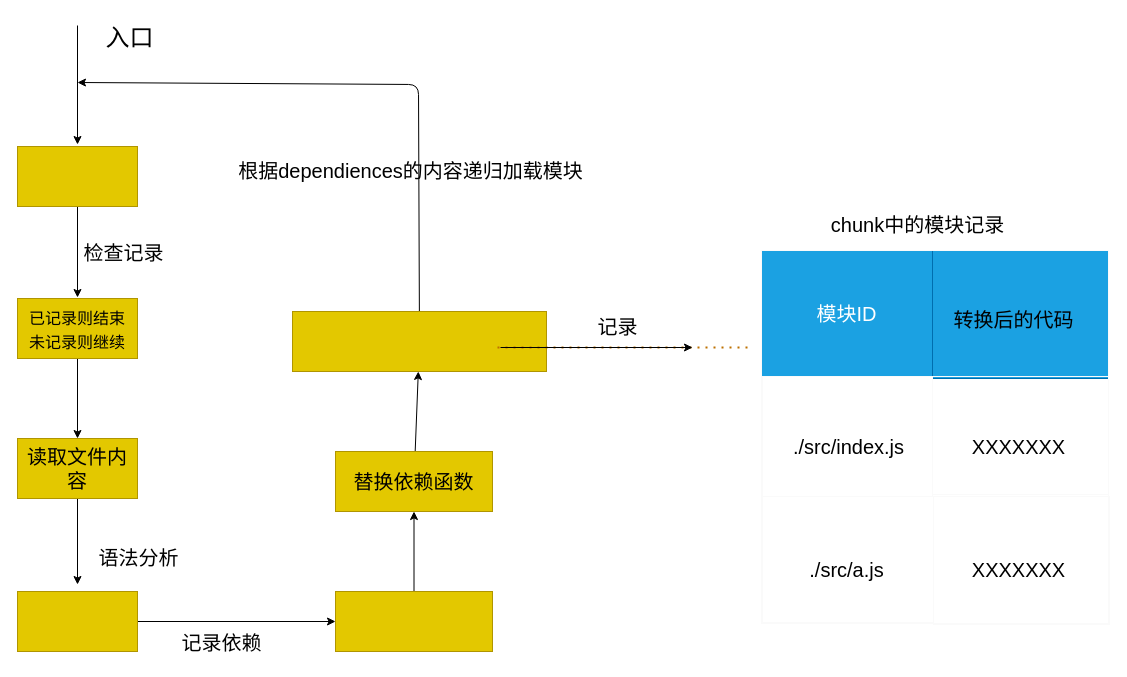
Some shapes in this 1127 by 677 pixel diagram are drawn without their labels. Each missing label, with the centre of its shape:
AST 抽象语法树: the point at 77,621
保存转换后的代码模块: the point at 419,341
模块文件: the point at 77,176
缓存到dependencies中: the point at 413,621
